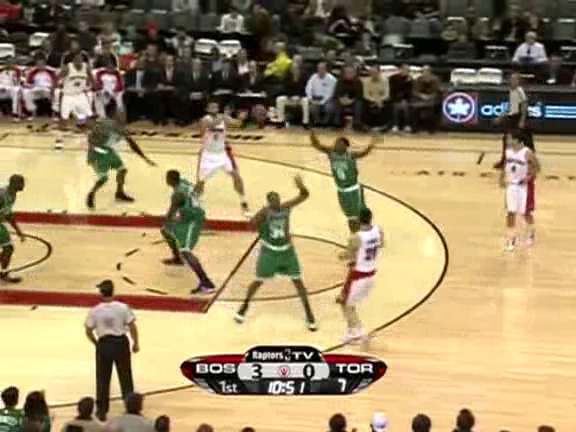person: (328, 142, 362, 223), (327, 142, 361, 223), (329, 142, 363, 223), (328, 141, 362, 222), (328, 143, 362, 224)
target_negative: (108, 122, 430, 419), (43, 375, 561, 402), (276, 227, 340, 398), (364, 188, 427, 293), (383, 139, 401, 253), (521, 296, 553, 303)
